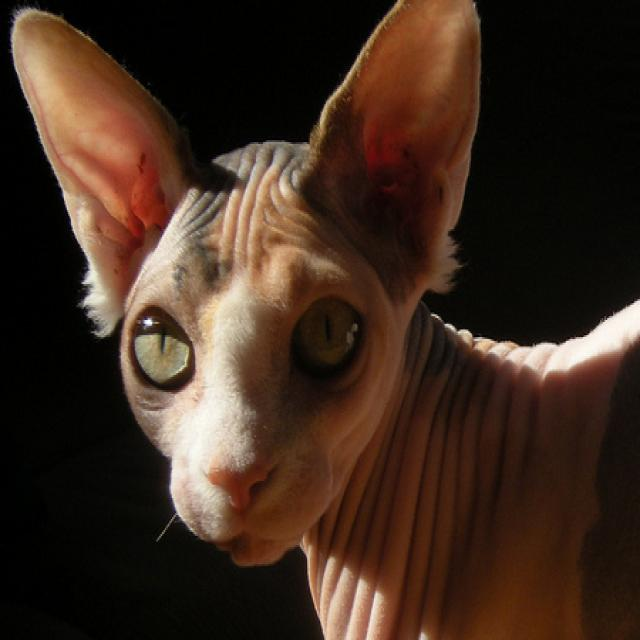Sphynx: (7, 0, 640, 640)
